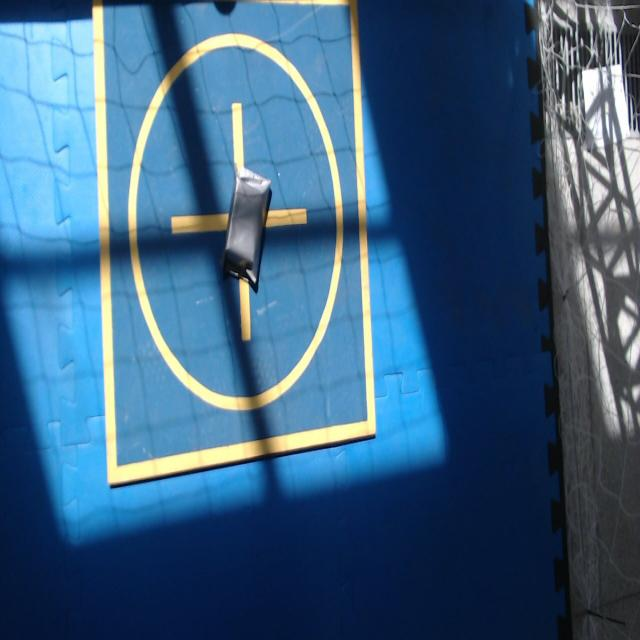direita: (222, 166, 270, 292)
